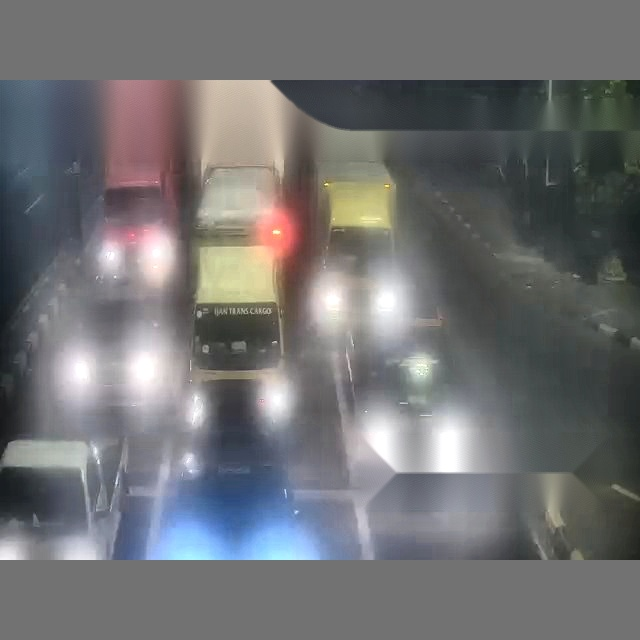Mobil: (0, 439, 125, 559)
Truk: (187, 80, 308, 432), (95, 79, 186, 296), (316, 137, 395, 236)
